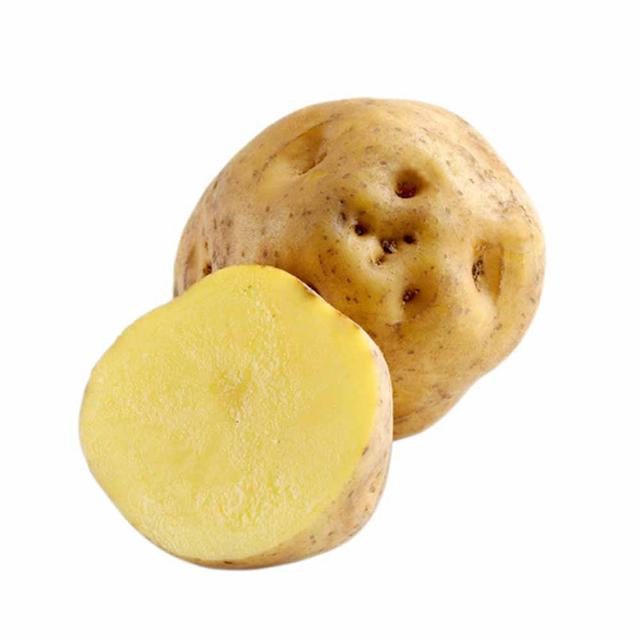Potato: (165, 94, 552, 466)
